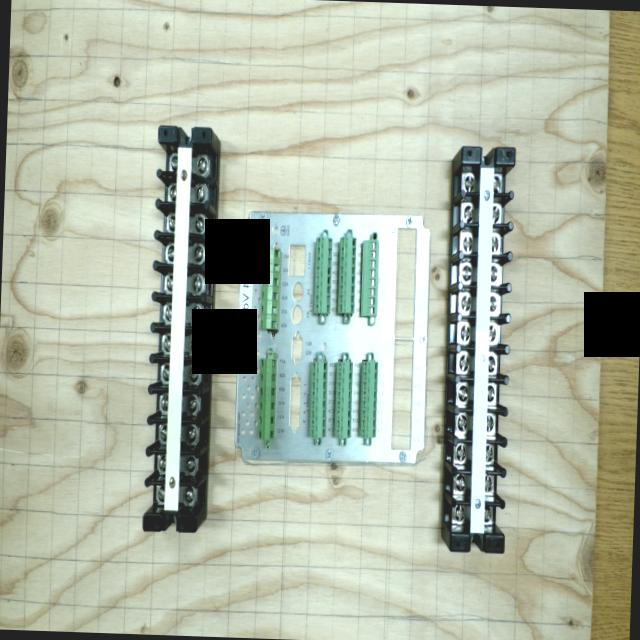Flathead_Block: (143, 126, 212, 533)
Phillips_Block: (450, 146, 516, 553)
Terminal_1: (260, 247, 280, 329), (258, 358, 276, 439)
Terminal_2: (309, 361, 327, 438), (314, 237, 332, 313), (338, 237, 356, 313), (334, 362, 352, 438), (360, 361, 378, 437)
